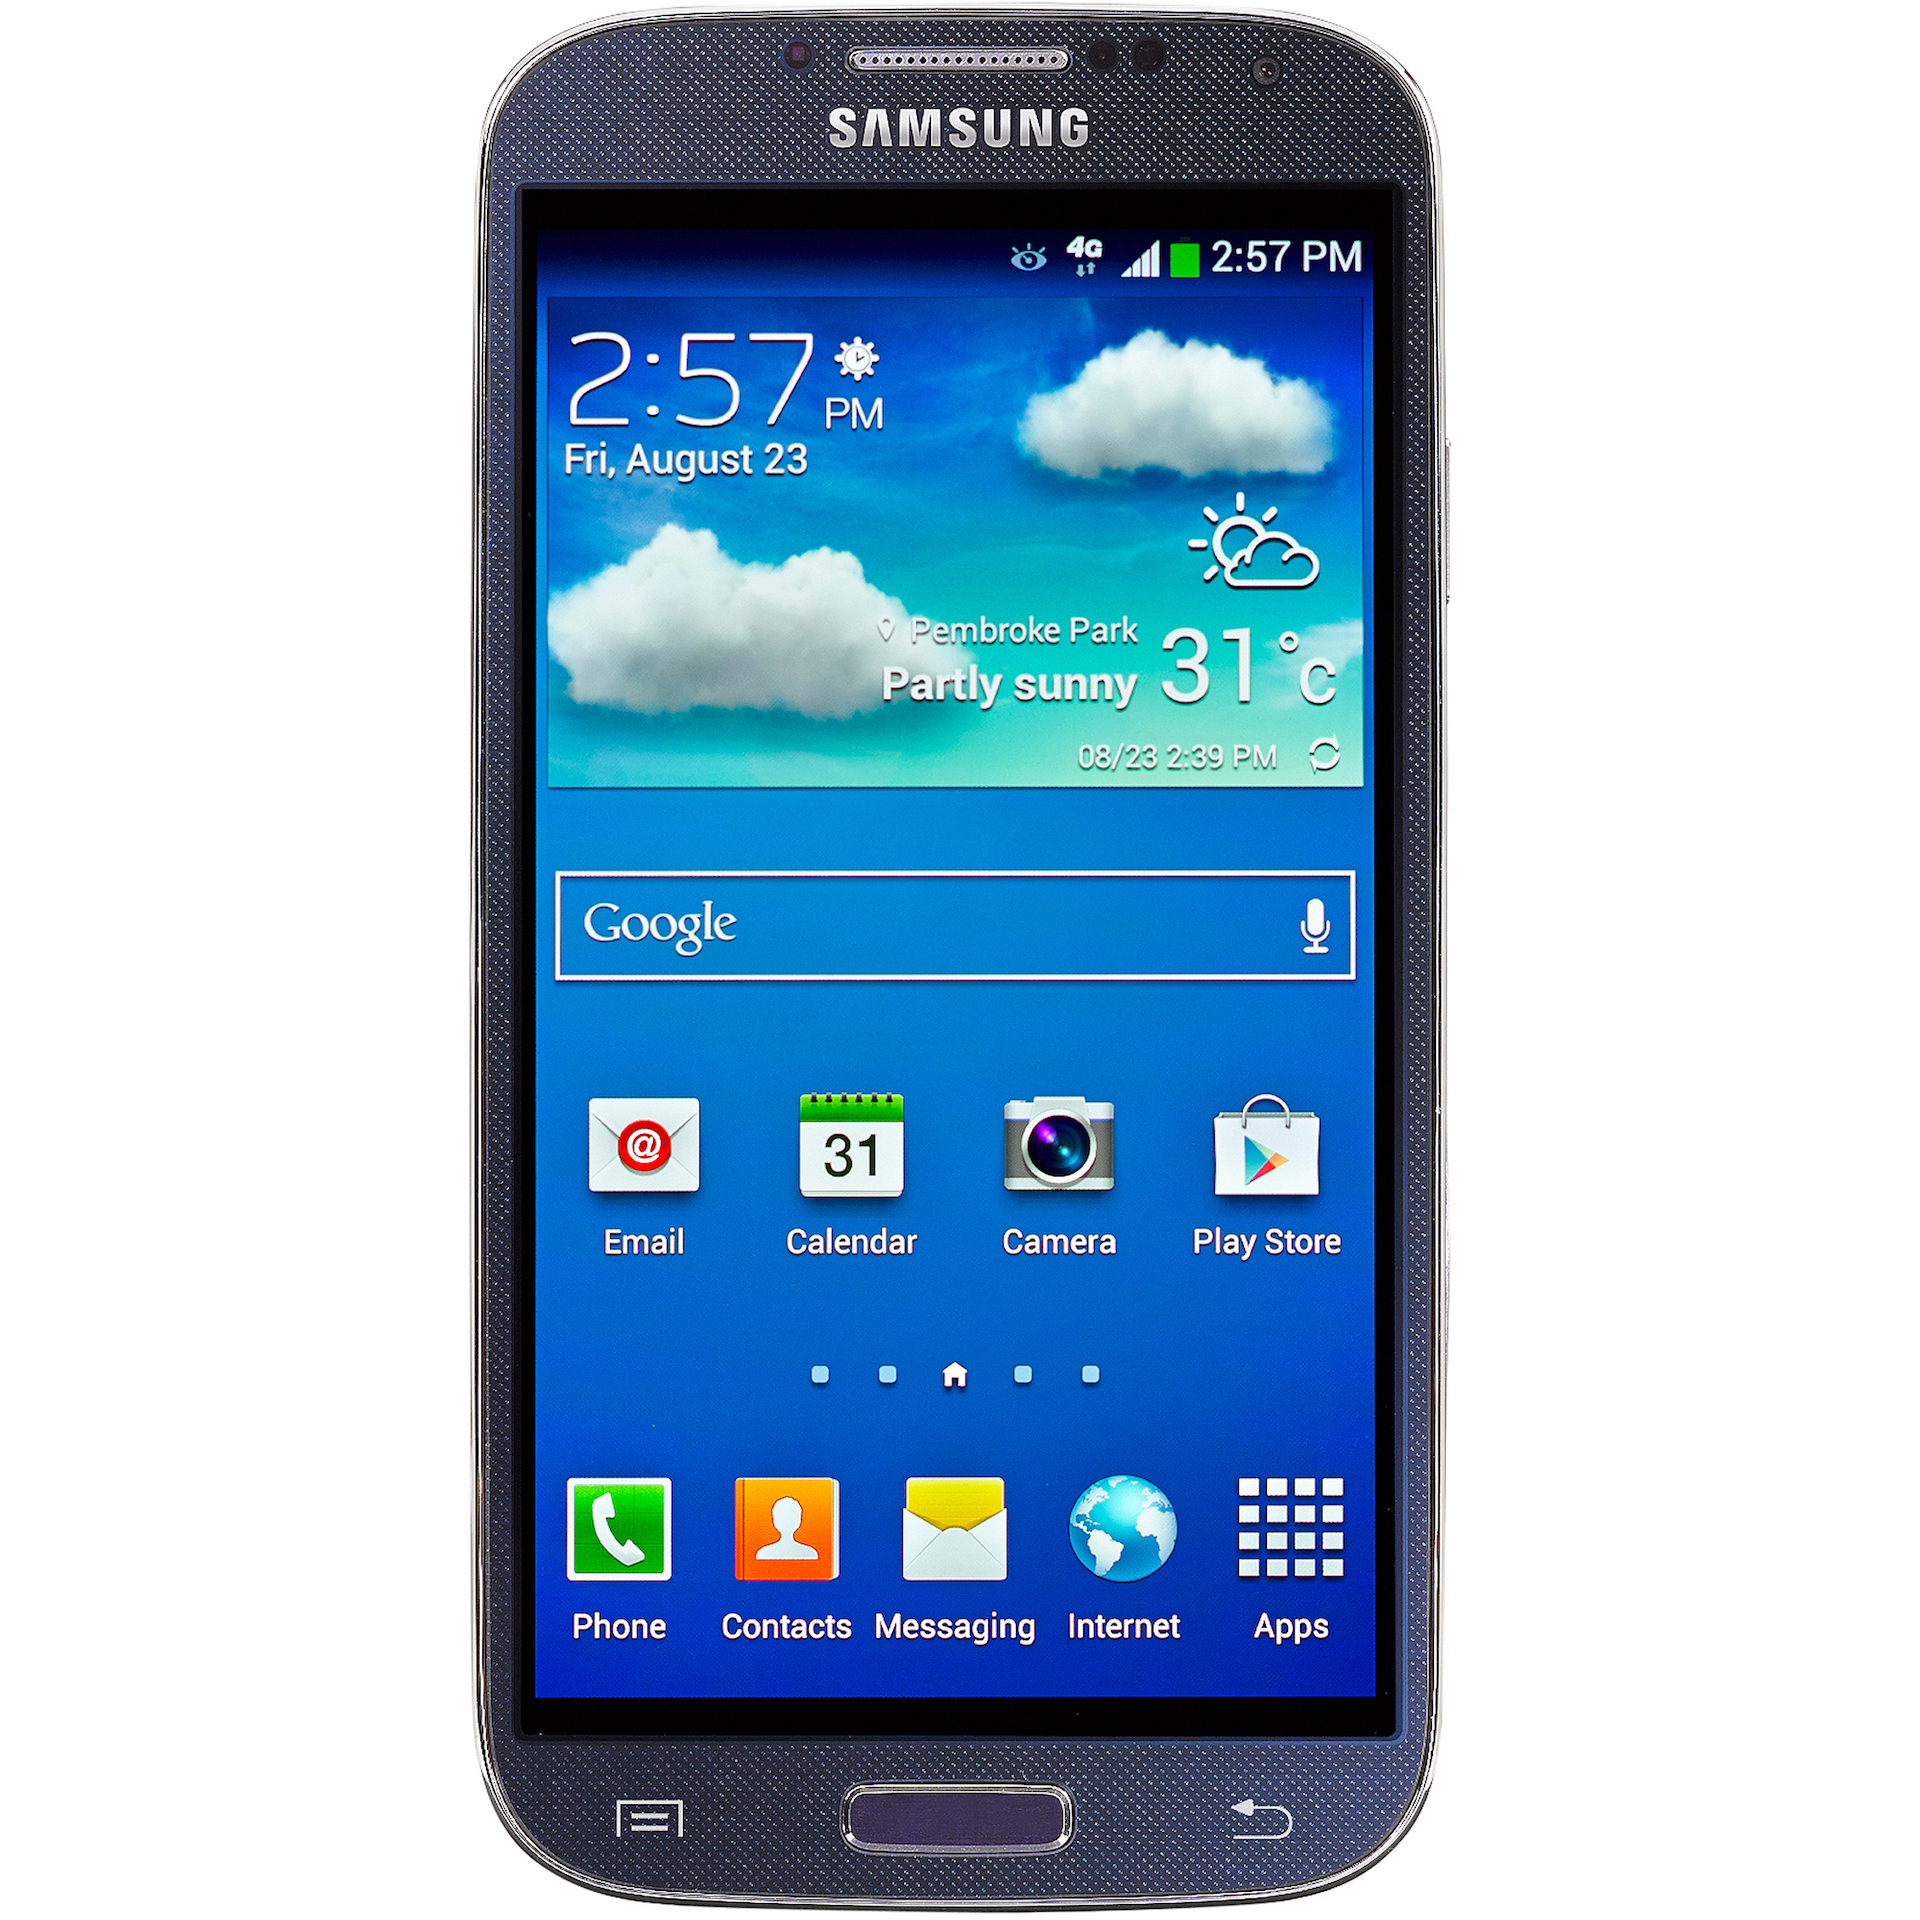smartphone: (469, 2, 1451, 1920)
